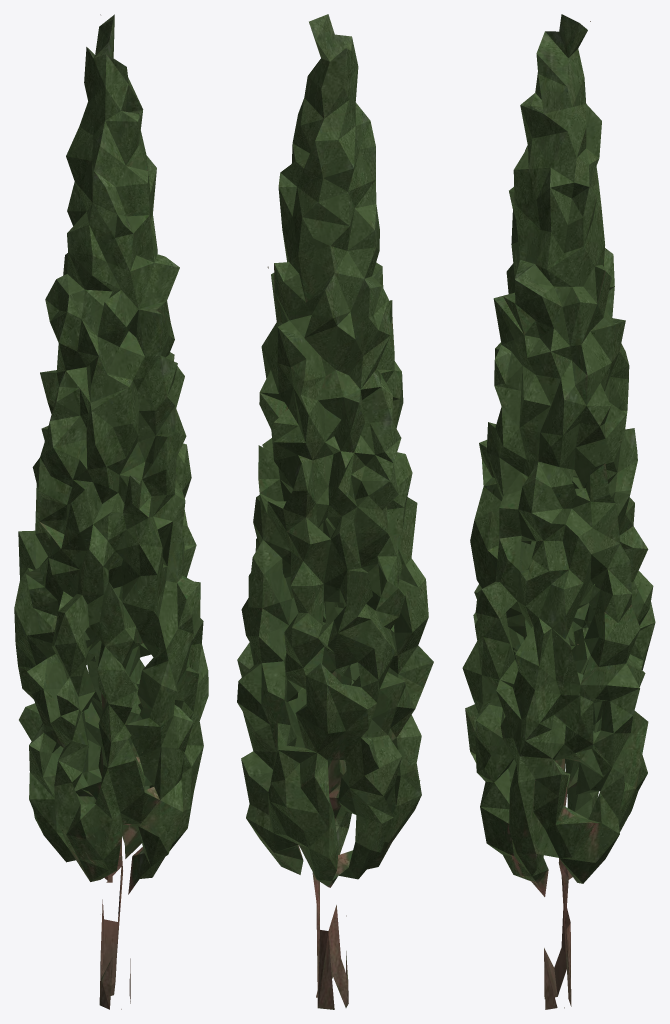
The model's file is cypress.glb.
The picture shows the model from 3 angles, left to right: view 1: azimuth 30°, elevation 25°; view 2: azimuth 150°, elevation 25°; view 3: azimuth 270°, elevation 25°; orthographic projection.
Parts seen in each view (by area): view 1: lo; view 2: lo; view 3: lo.
Part boxes in pixels (bbox=[...]): lo: bbox=[14, 14, 208, 1009]; lo: bbox=[237, 14, 433, 1009]; lo: bbox=[462, 14, 655, 1009].
Bounding box in the file's own units: 0.1663 × 0.949 × 0.1675.
Materials: 1 (1 with a texture image).
